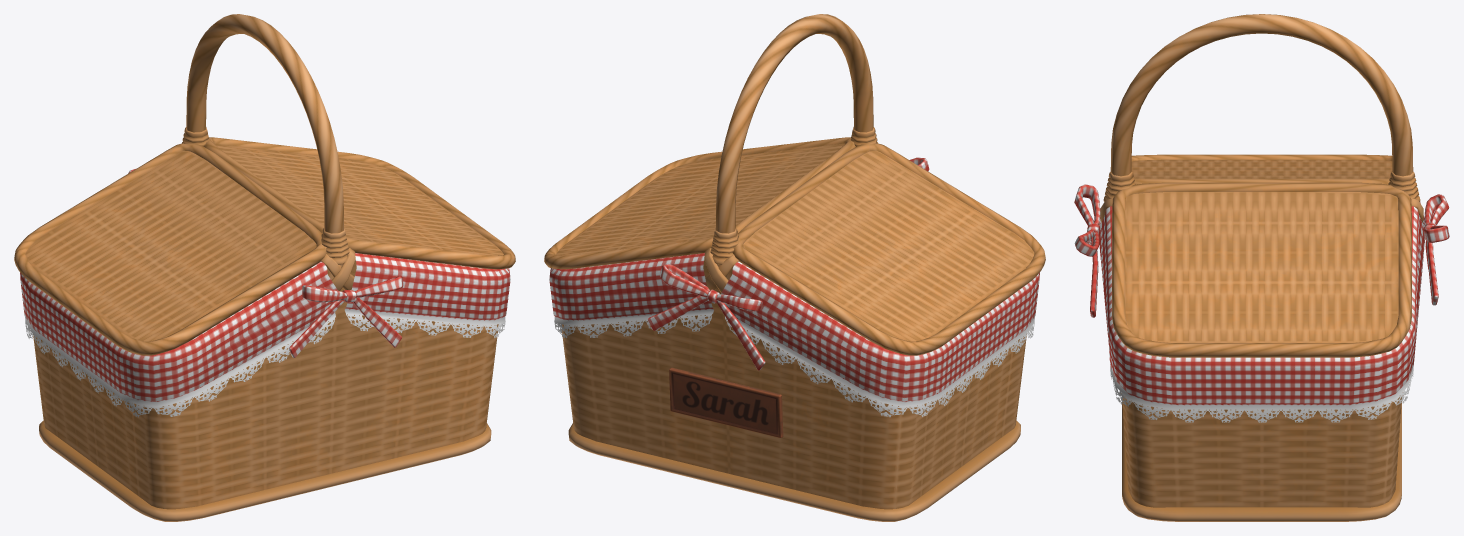
Rendered from StackUp_MomBox.fbx.
3 renders of one model, left to right at view 1: azimuth 30°, elevation 25°; view 2: azimuth 150°, elevation 25°; view 3: azimuth 270°, elevation 25°, orthographic. The views are drawn at different scales.
Parts seen in each view (by area): view 1: StackUp_MomBox; view 2: StackUp_MomBox; view 3: StackUp_MomBox.
Part boxes in pixels (x1=…): StackUp_MomBox: x1=14, y1=14, x2=515, y2=521; StackUp_MomBox: x1=544, y1=14, x2=1045, y2=521; StackUp_MomBox: x1=1074, y1=14, x2=1449, y2=521.
Bounding box in the file's own units: 36.34 × 36.89 × 29.7.
